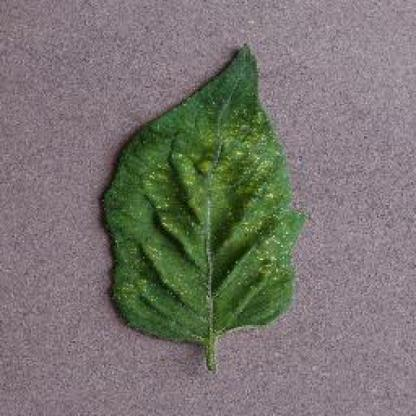Tomato_Spider_Mites: (105, 45, 299, 338)
